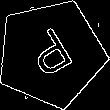P_SE: (21, 22, 80, 84)
